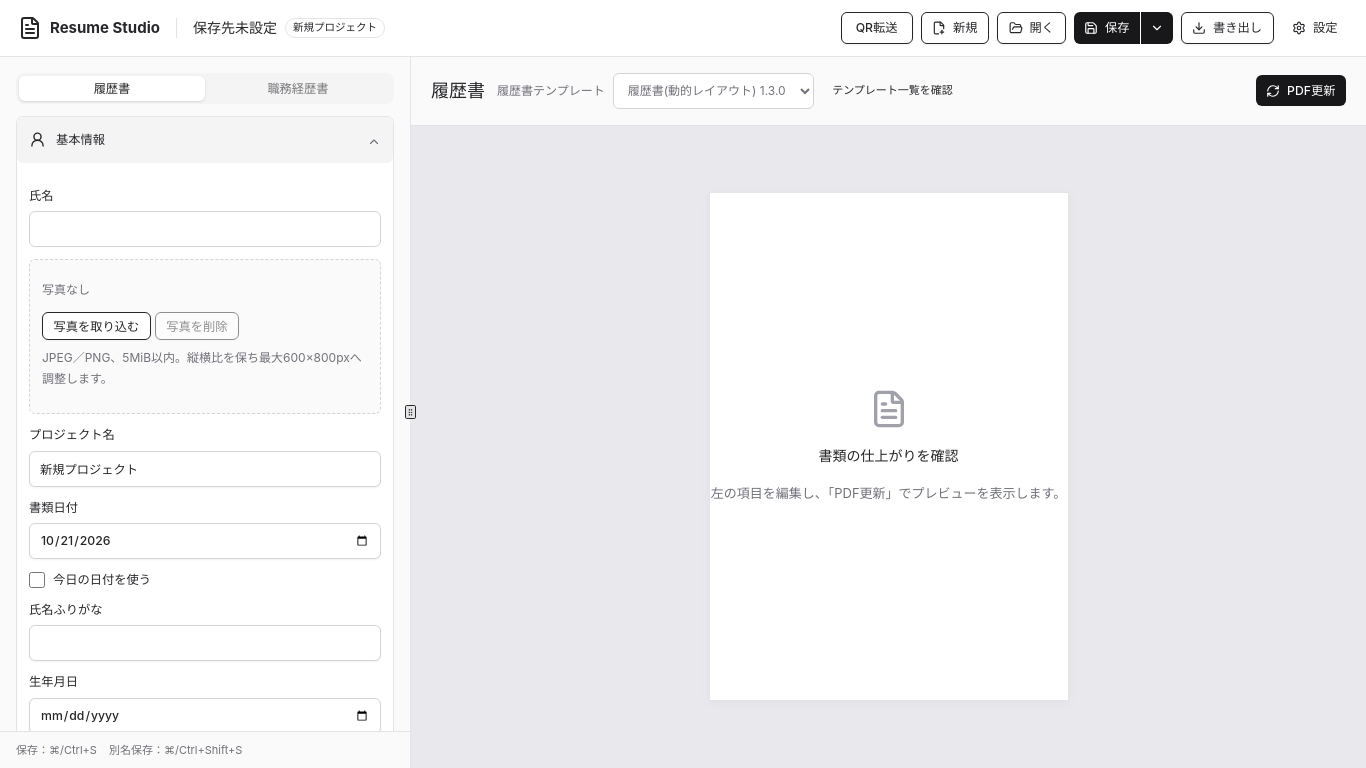
it: Tauri adapterからアプリ情報を取得し、両書類を選択できる
Click the button "設定": (1315, 28) [1282,12,1348,44]
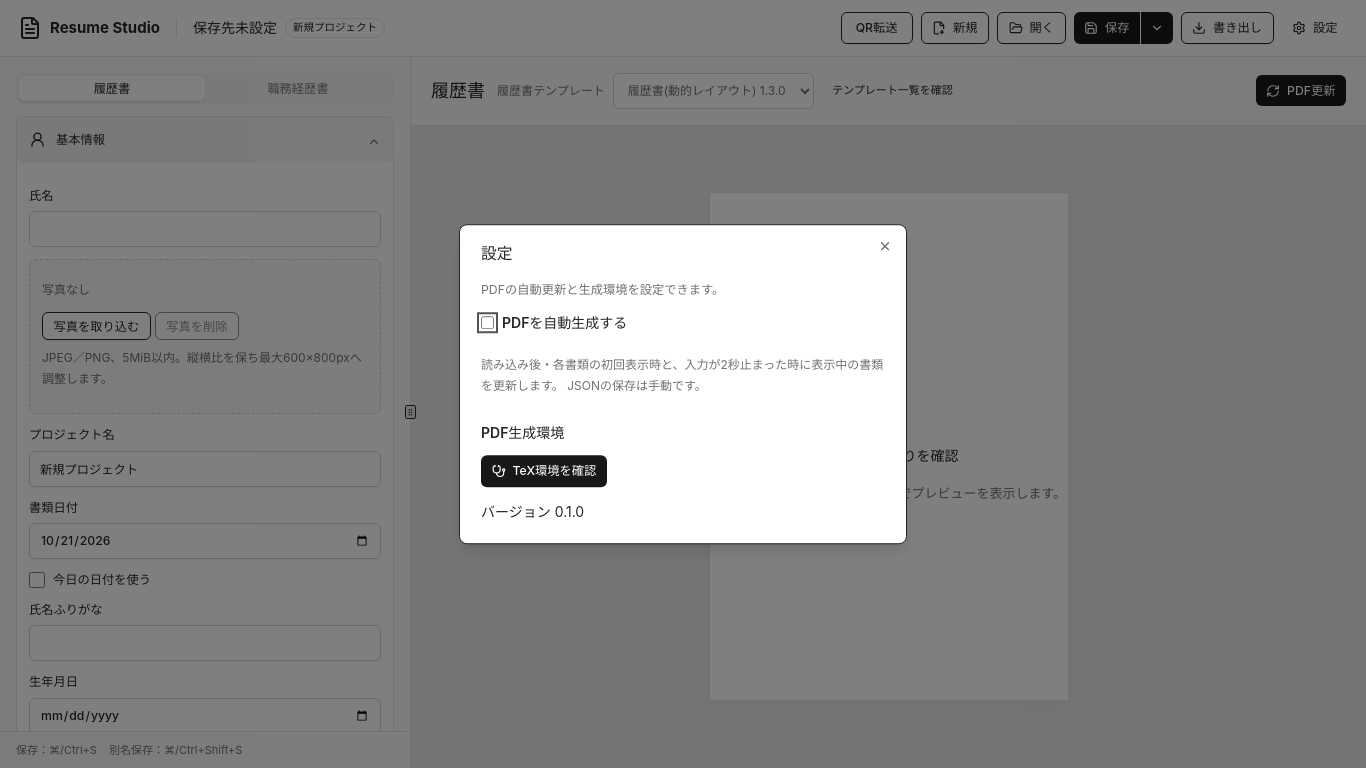
Click the button named "ダイアログを閉じる": (885, 246) [878,239,892,253]
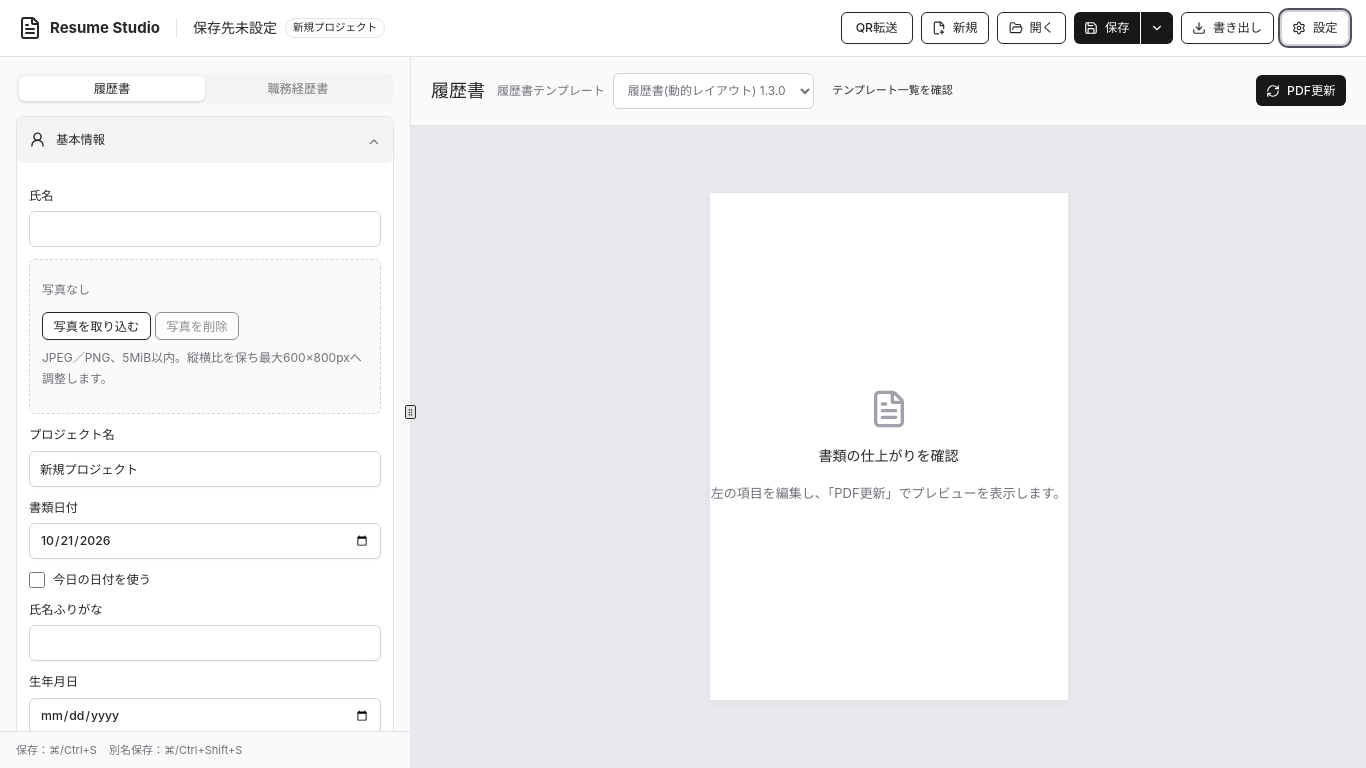
Expected: the heading "履歴書" is shown, [431,77,485,104]
Click the tab "職務経歴書": (298, 88) [205,76,391,100]
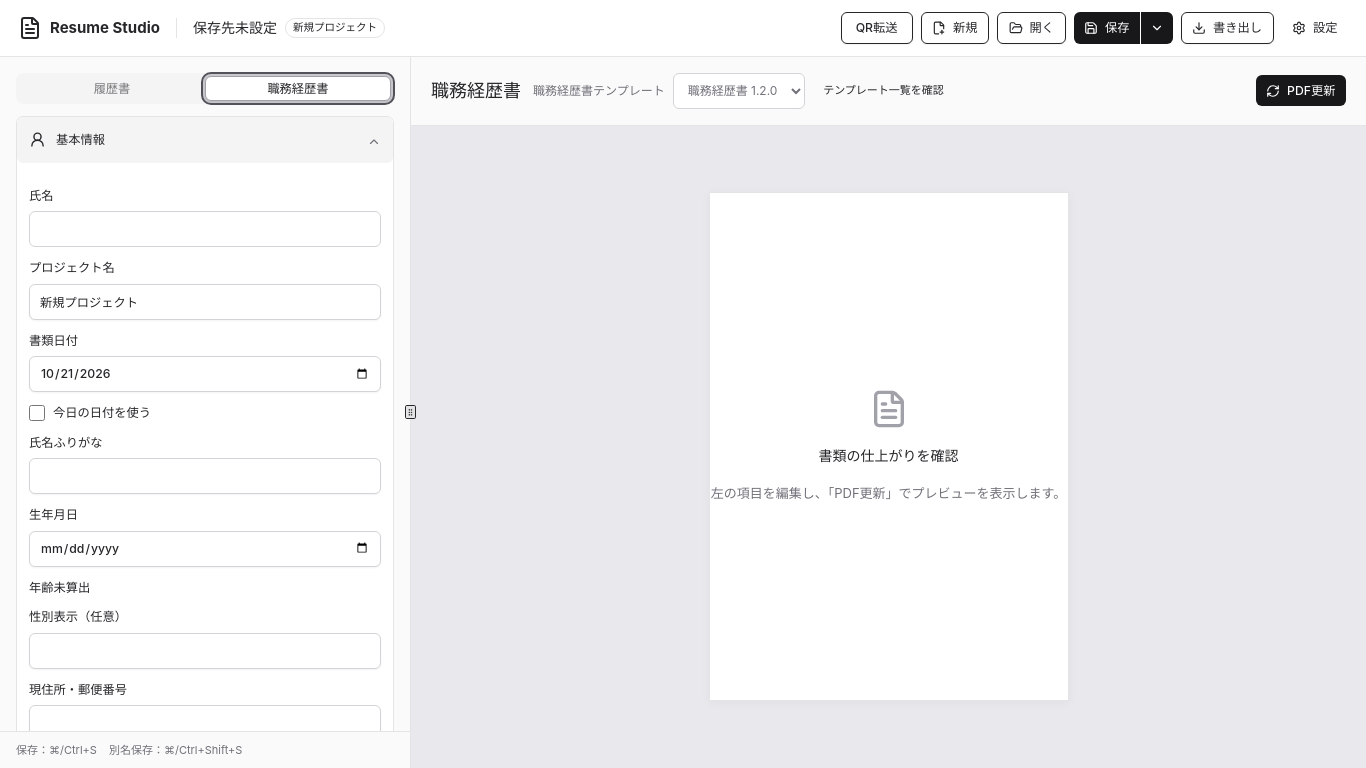
Expected: the heading "職務経歴書" is shown, [431,77,521,104]
Click the tab "履歴書": (112, 88) [19,76,205,100]
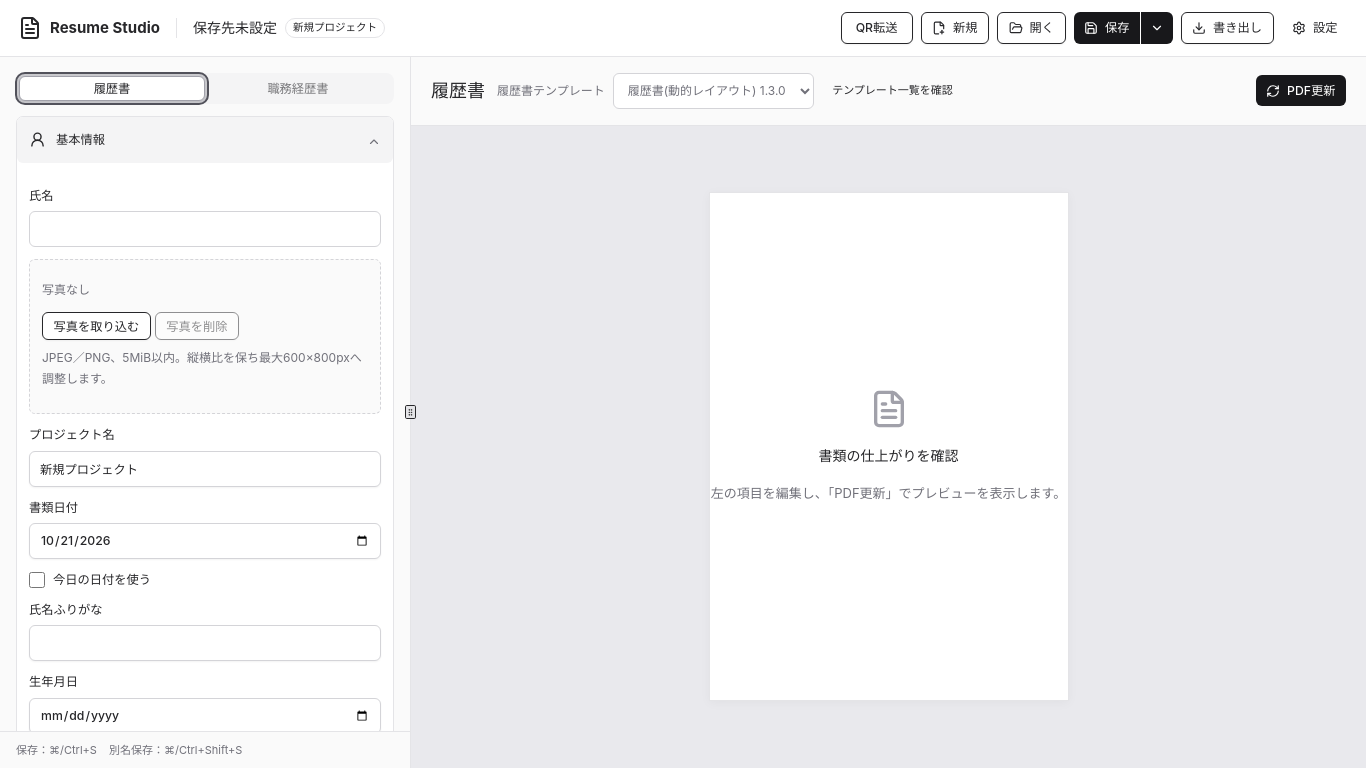
Expected: the heading "履歴書" is shown, [431,77,485,104]
